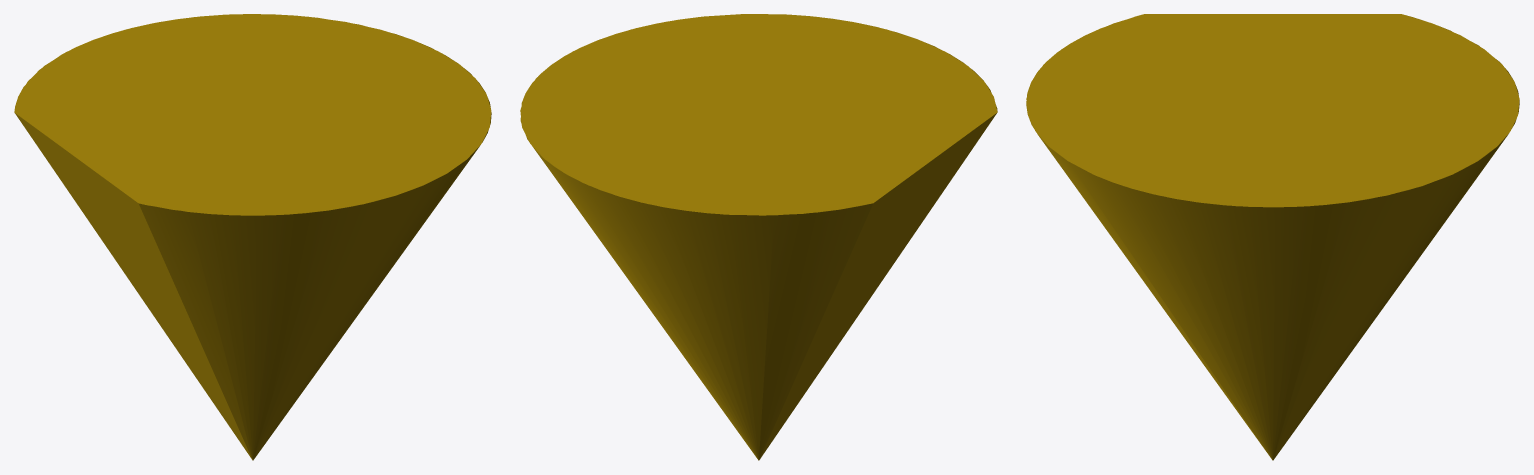
File: yuanzhuijieduanti5.FBX
3 views of the same model, side by side, from view 1: azimuth 30°, elevation 25°; view 2: azimuth 150°, elevation 25°; view 3: azimuth 270°, elevation 25° (orthographic). The views are drawn at different scales.
Visible parts, largest first — view 1: TRM_SRF (×3); view 2: TRM_SRF (×3); view 3: TRM_SRF (×2).
Boxes of the visible parts, x1,y1,x2,y2 form: TRM_SRF (×3): (14,14,491,460); TRM_SRF (×3): (520,14,997,460); TRM_SRF (×2): (1026,14,1519,460).
Size of the model in its own units: 36.5 by 31.5 by 39.37.
